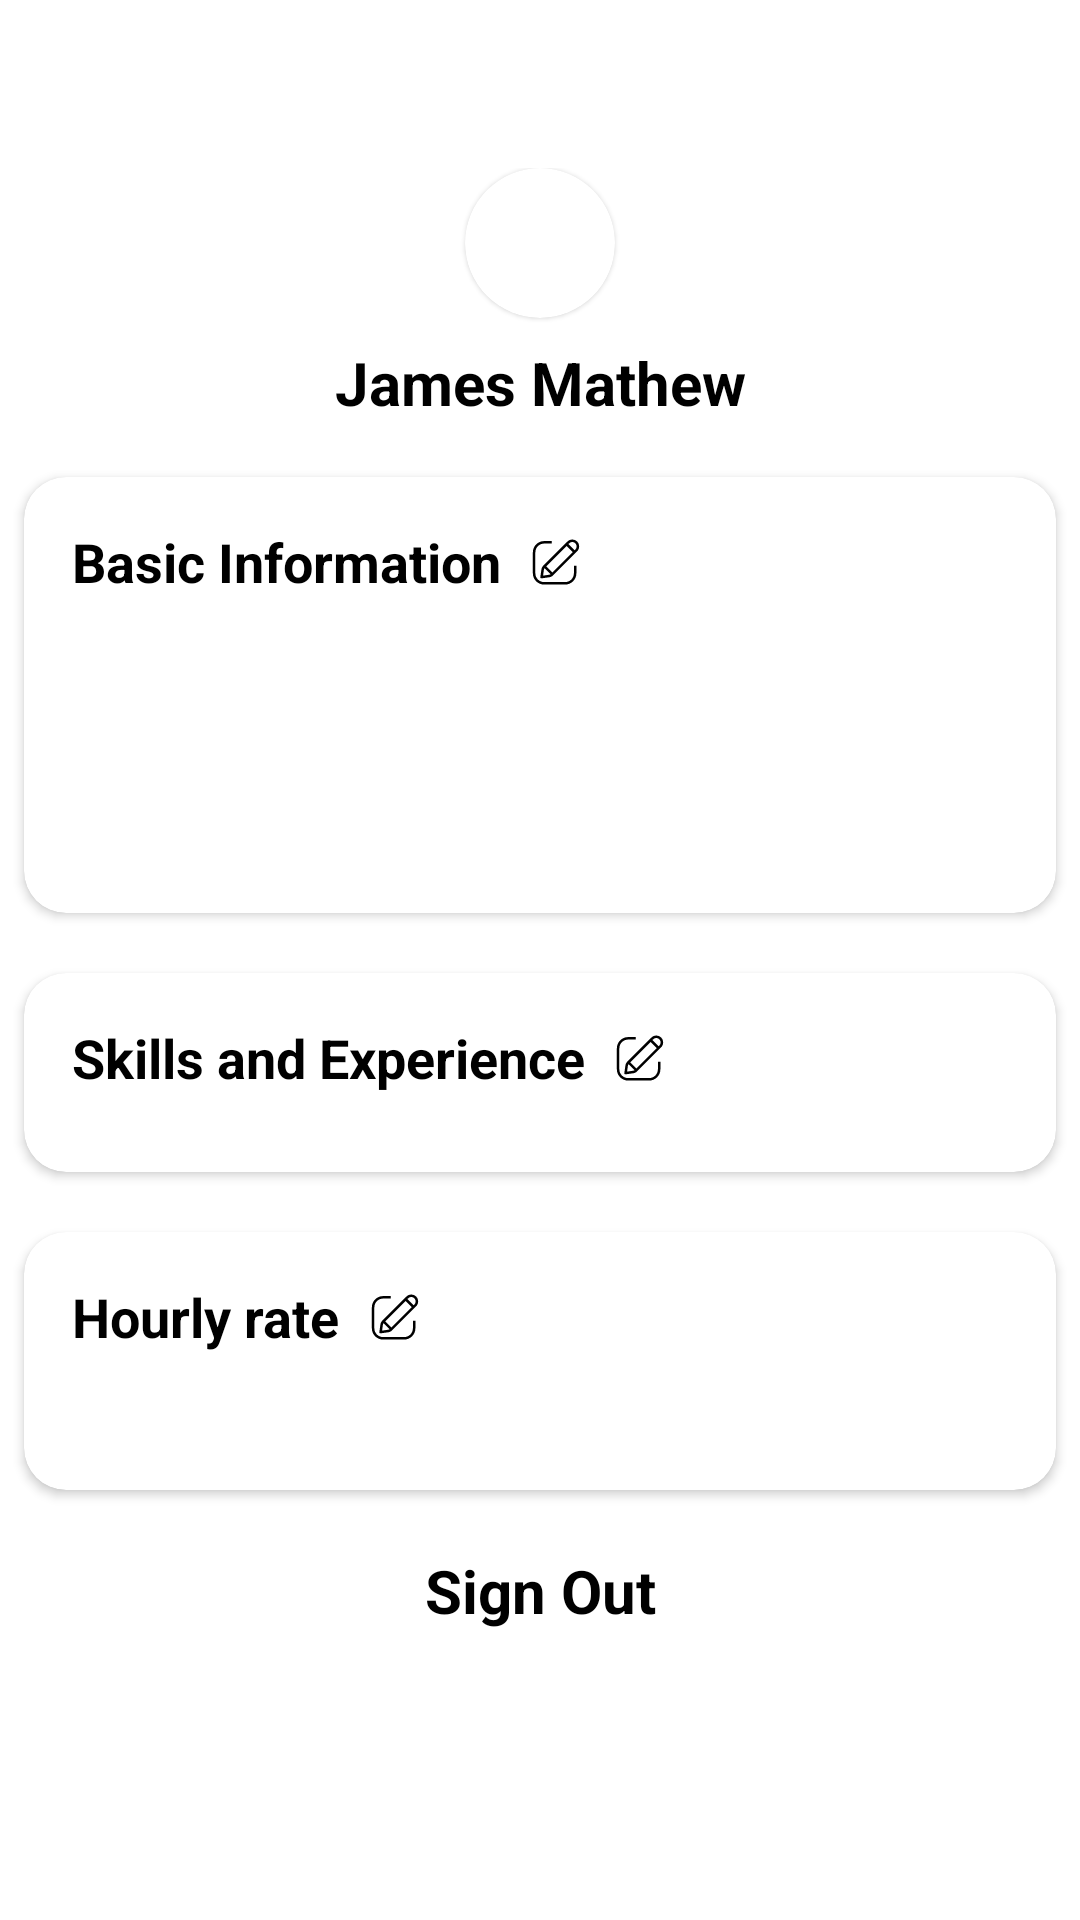

Where to tap for icons on this 1080w x 1920h app screen, as point (x, y):
edit: point (556, 562), point (640, 1058), point (395, 1317)
